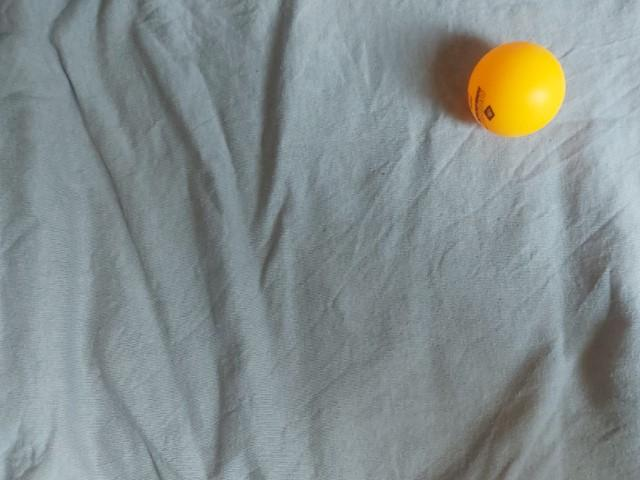oball: (68, 336, 183, 445)
